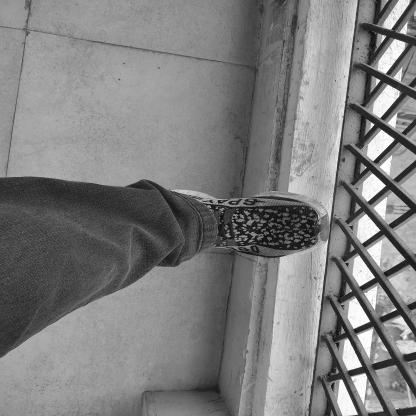ankle: (197, 204, 202, 207)
heel: (177, 191, 181, 193)
pinky: (292, 251, 298, 254)
right_foot: (165, 190, 332, 259)
toe: (299, 203, 306, 207)
